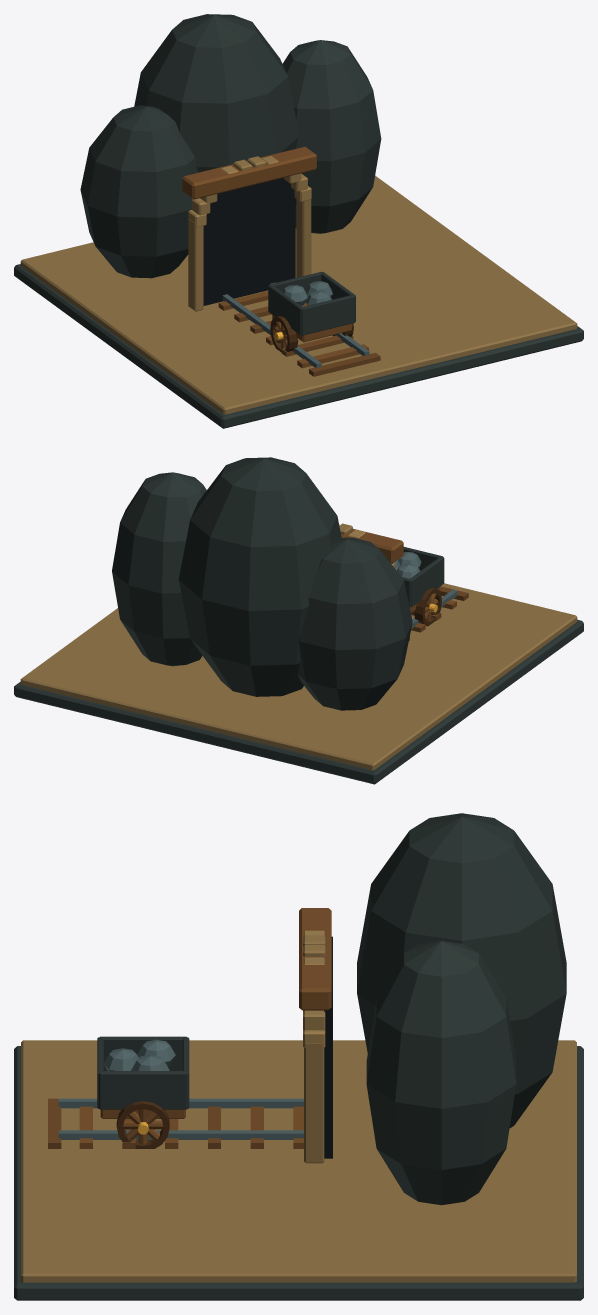
The picture shows the model from 3 angles, top to bottom: view 1: azimuth 30°, elevation 25°; view 2: azimuth 150°, elevation 25°; view 3: azimuth 270°, elevation 25°; orthographic projection. The views are drawn at different scales.
Visible parts, largest first — view 1: mine_2_structure; view 2: mine_2_structure; view 3: mine_2_structure.
Part boxes in pixels (box(x1,y1,x2,y2)): mine_2_structure: box(14, 14, 583, 428); mine_2_structure: box(14, 457, 583, 784); mine_2_structure: box(14, 813, 583, 1300).
Bounding box in the file's own units: 5.6 × 3.78 × 5.6.
